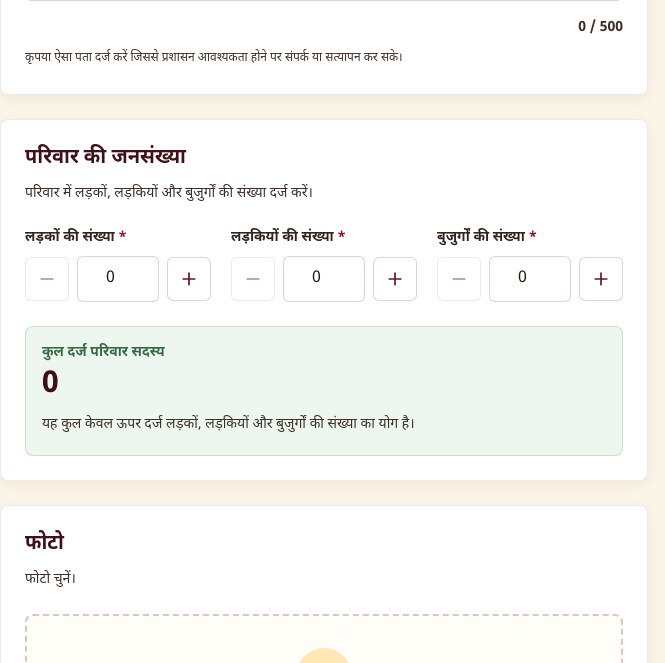
Test: RegistrationForm › updates family total immediately
(page scrolled)
Expected: the text "0" is shown, [42,365,58,404]
Replace the text in the number field labelled "लड़कों की संख्या *" with "2": {"x": 118, "y": 279} [77,256,159,302]
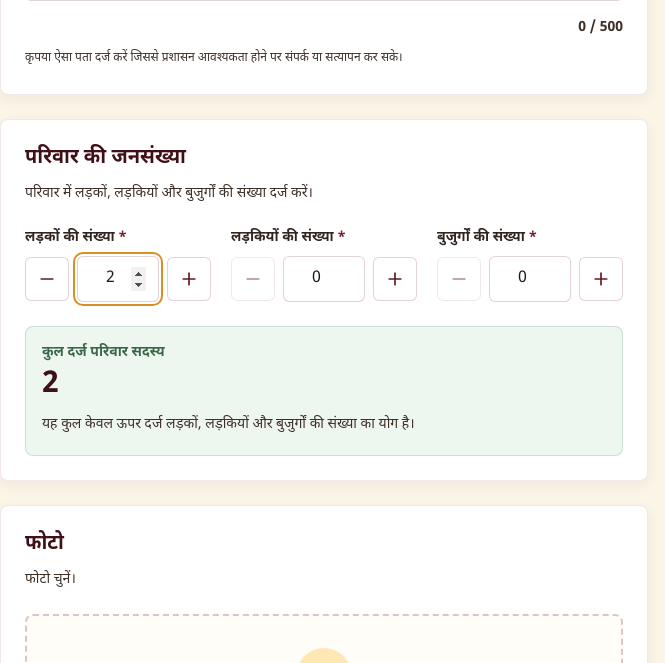
Replace the text in the number field labelled "लड़कियों की संख्या *" with "3": {"x": 324, "y": 279} [283,256,365,302]
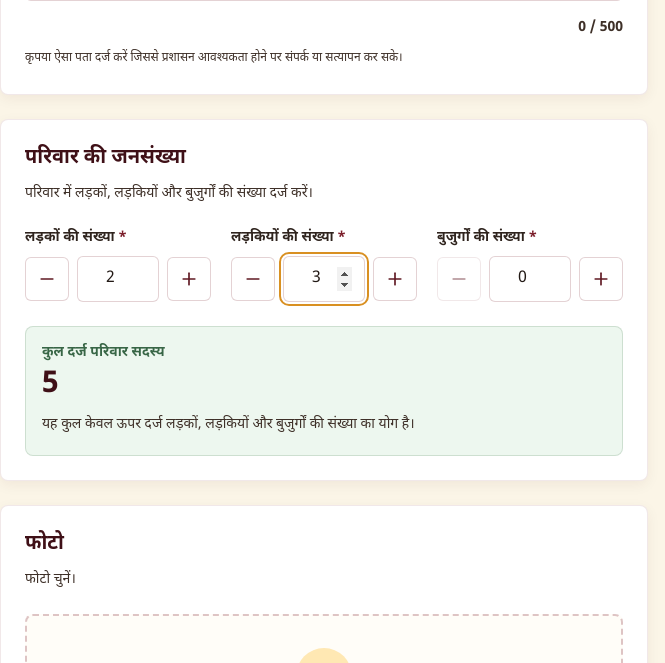
Replace the text in the number field labelled "बुजुर्गों की संख्या *" with "1": {"x": 530, "y": 279} [489,256,571,302]
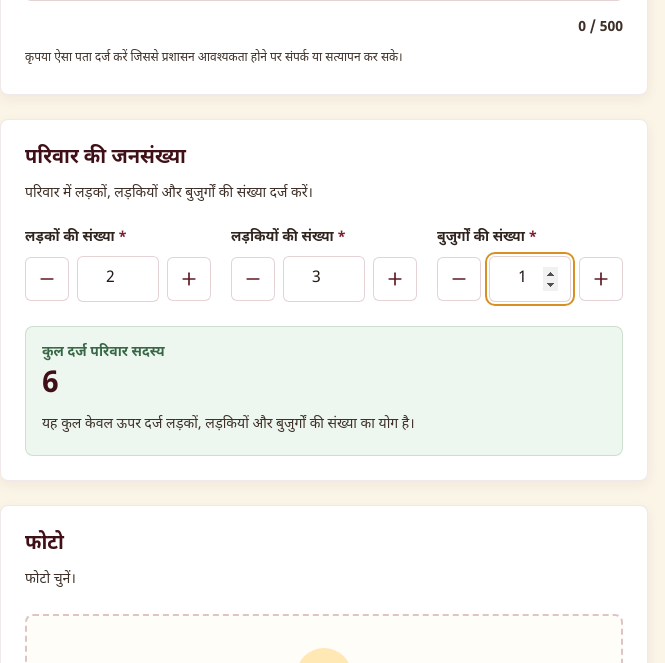
Now the text "6" is shown, box [42,365,58,404]
